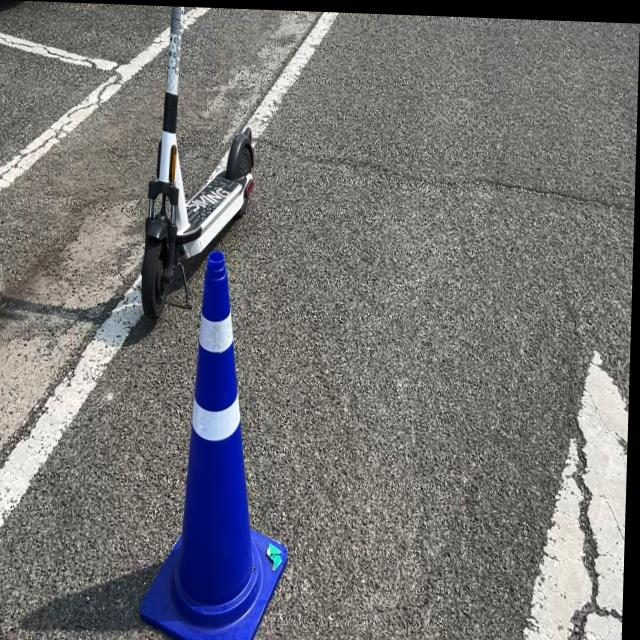b_rub: (144, 249, 291, 640)
